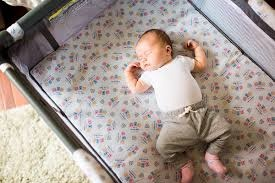baby: (124, 29, 229, 182)
crib: (0, 0, 274, 182)
